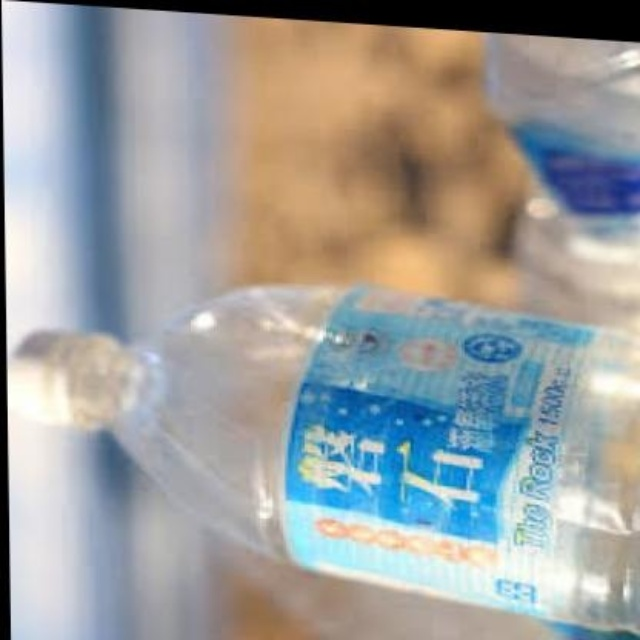trash: (11, 286, 638, 638)
